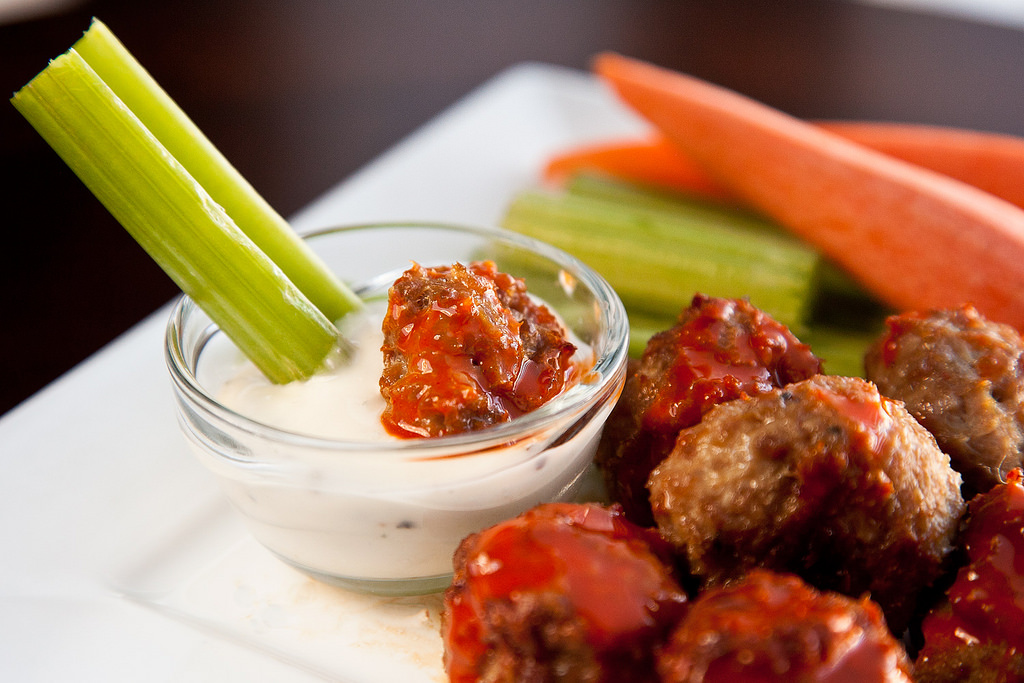meatballs: (633, 291, 1024, 683), (439, 497, 678, 683), (383, 265, 582, 432)
